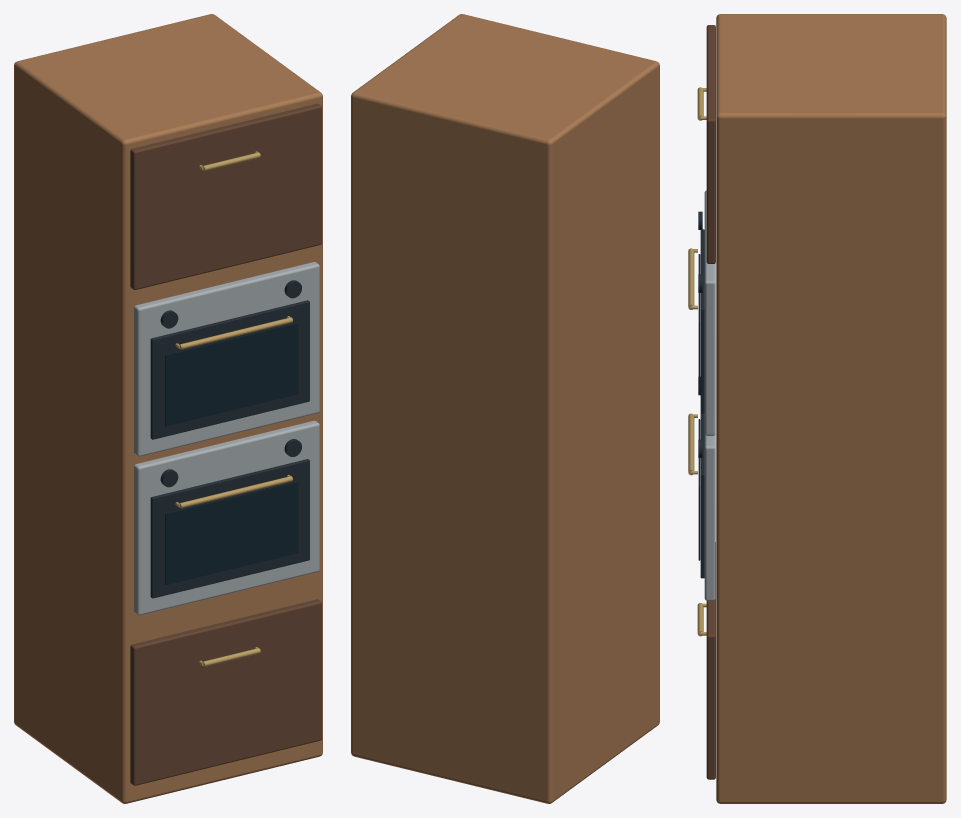
The model's file is officeOvenTower.glb.
3 views of the same model, side by side, from view 1: azimuth 30°, elevation 25°; view 2: azimuth 150°, elevation 25°; view 3: azimuth 270°, elevation 25° (orthographic). The views are drawn at different scales.
Bounding box in the file's own units: 0.65 × 2.05 × 0.695.
